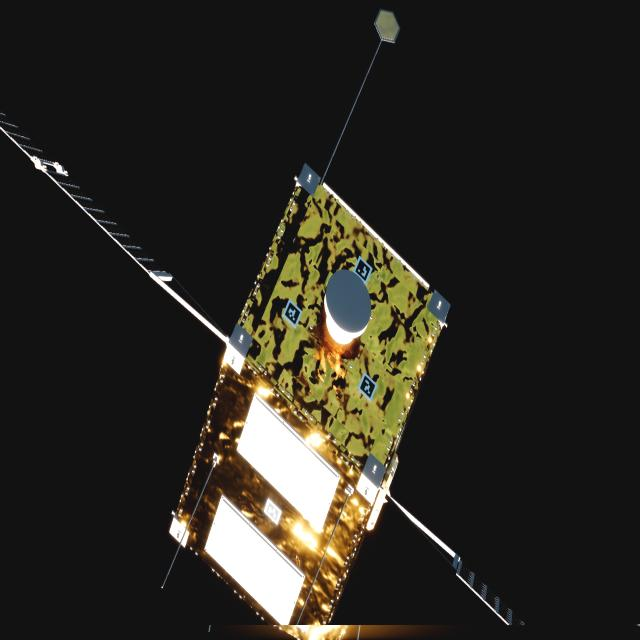medium_debris: (0, 111, 524, 634)
